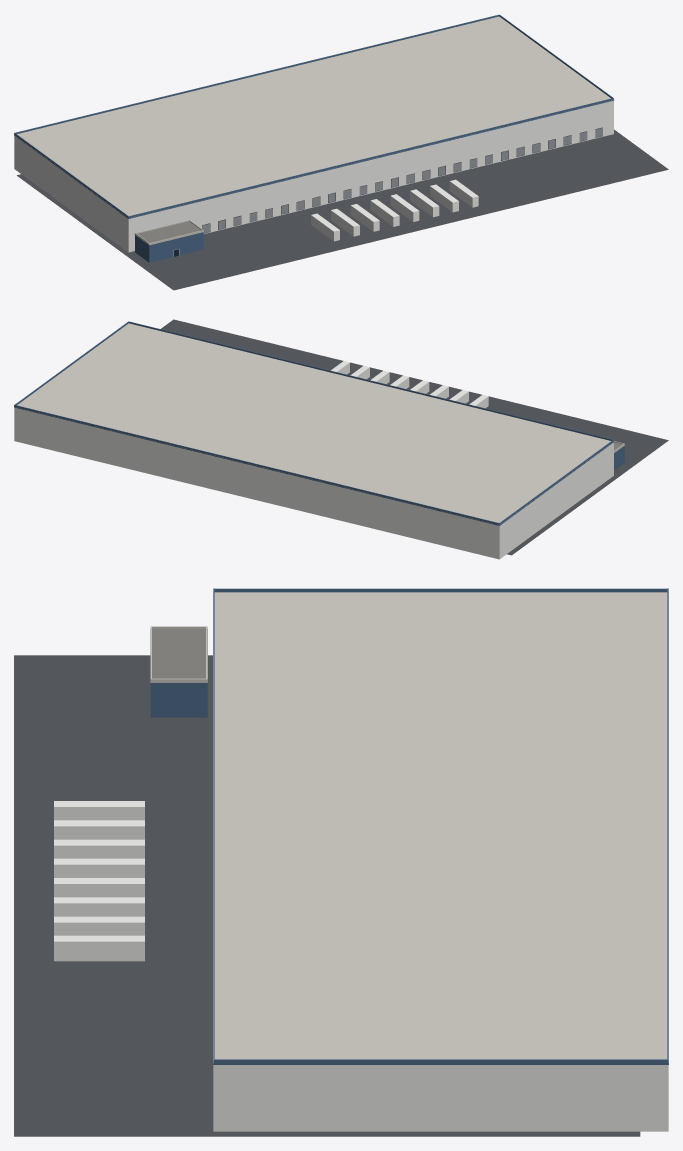
Rendered from entrepot_logistique.glb.
The picture shows the model from 3 angles, top to bottom: view 1: azimuth 30°, elevation 25°; view 2: azimuth 150°, elevation 25°; view 3: azimuth 270°, elevation 25°; orthographic projection. The views are drawn at different scales.
Visible parts, largest first — view 1: entrepot_logistique; view 2: entrepot_logistique; view 3: entrepot_logistique.
Boxes of the visible parts, x1,y1,x2,y2 form: entrepot_logistique: (14,14,668,290); entrepot_logistique: (14,319,668,559); entrepot_logistique: (14,588,668,1136).
Bounding box in the file's own units: 200 × 13.9 × 115.
Materials: 1 (1 with a texture image).
